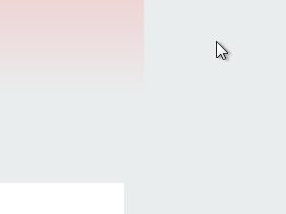cursor: (213, 37, 230, 63)
